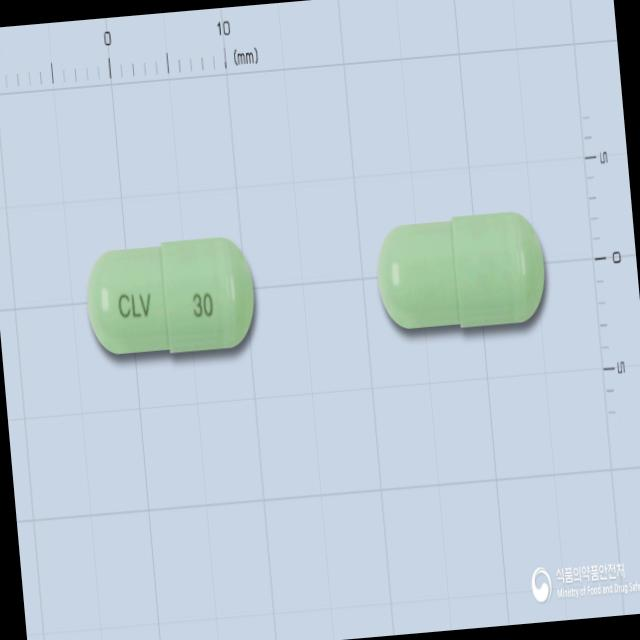Levovir Cap: (81, 233, 259, 361)
